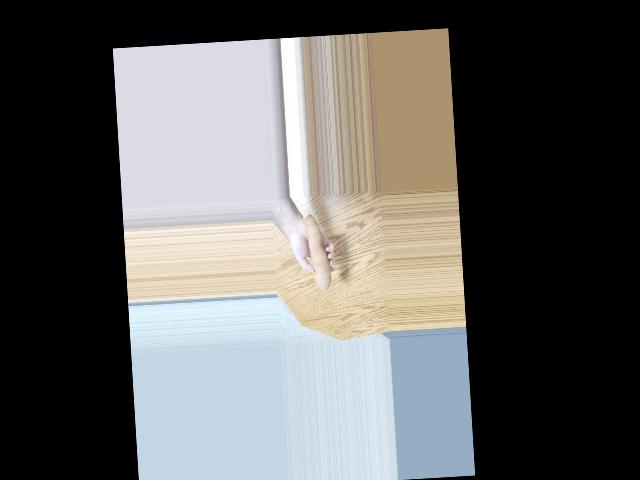sweet_potato: (302, 216, 337, 291)
